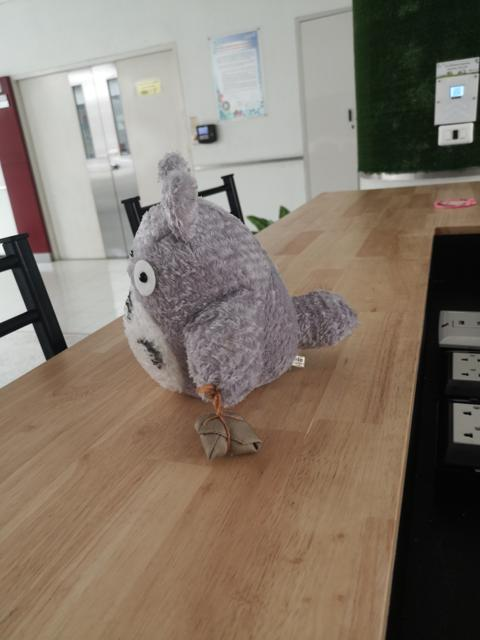totoro: (117, 147, 362, 465)
